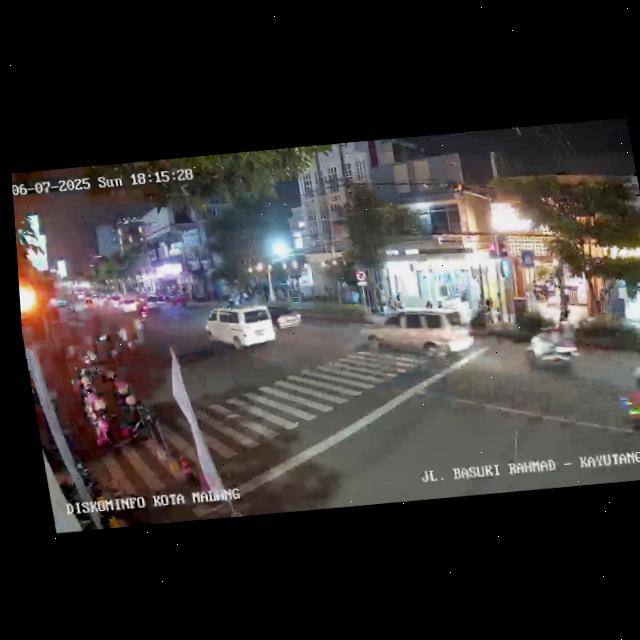car: (353, 300, 478, 372), (201, 302, 280, 355), (611, 347, 640, 447), (265, 300, 308, 331), (108, 292, 140, 314)
motorcycle: (520, 322, 583, 380), (134, 298, 150, 322)
person: (129, 315, 149, 352), (556, 291, 572, 324), (391, 289, 403, 310), (431, 289, 443, 309), (423, 294, 433, 309)
